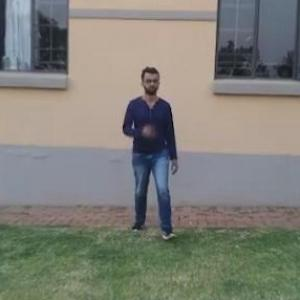follow: (125, 65, 177, 234)
